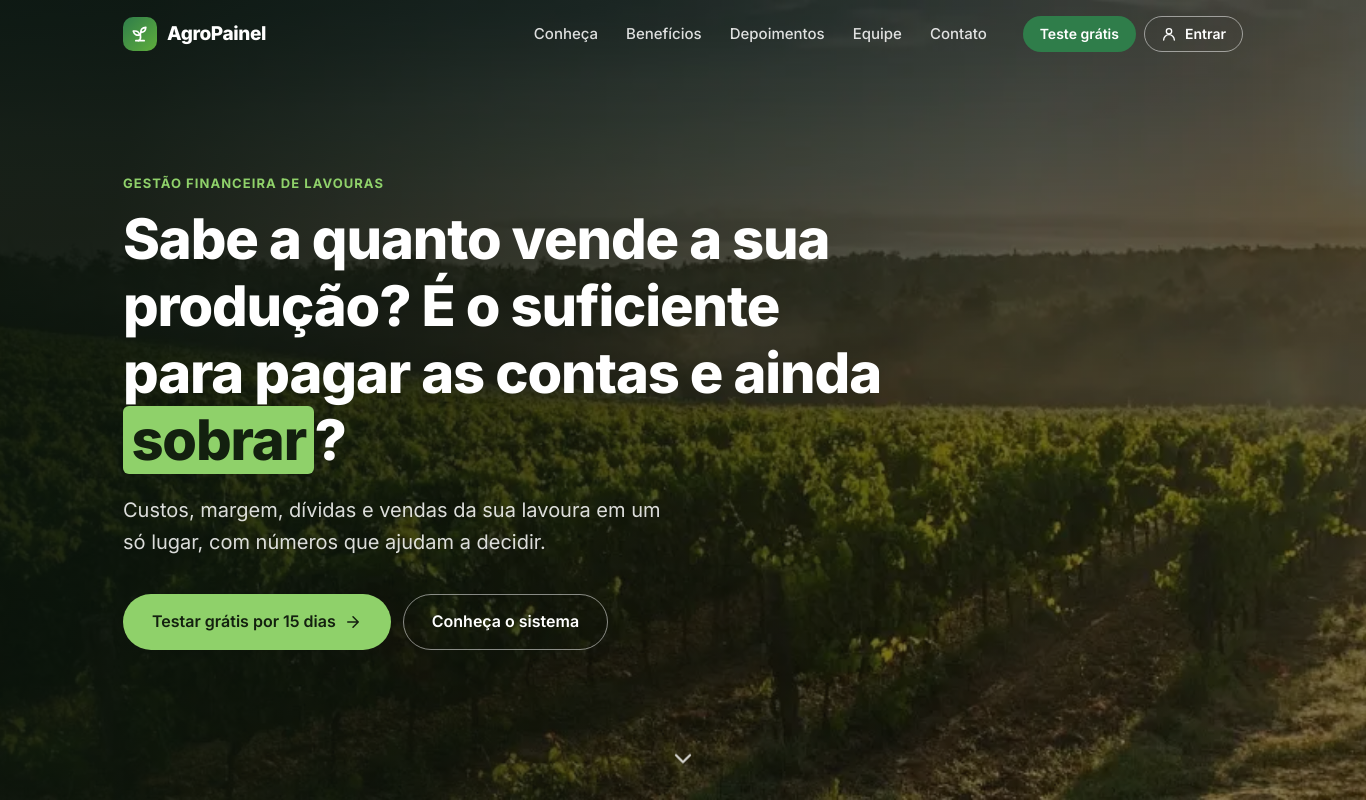
Test: Cadastro para teste grátis › valida os campos e aplica a máscara de CPF
This screenshot has width=1366, height=800.
Click the button "Teste grátis" at (1080, 34), box top-left (1023, 16), bottom-right (1136, 52)
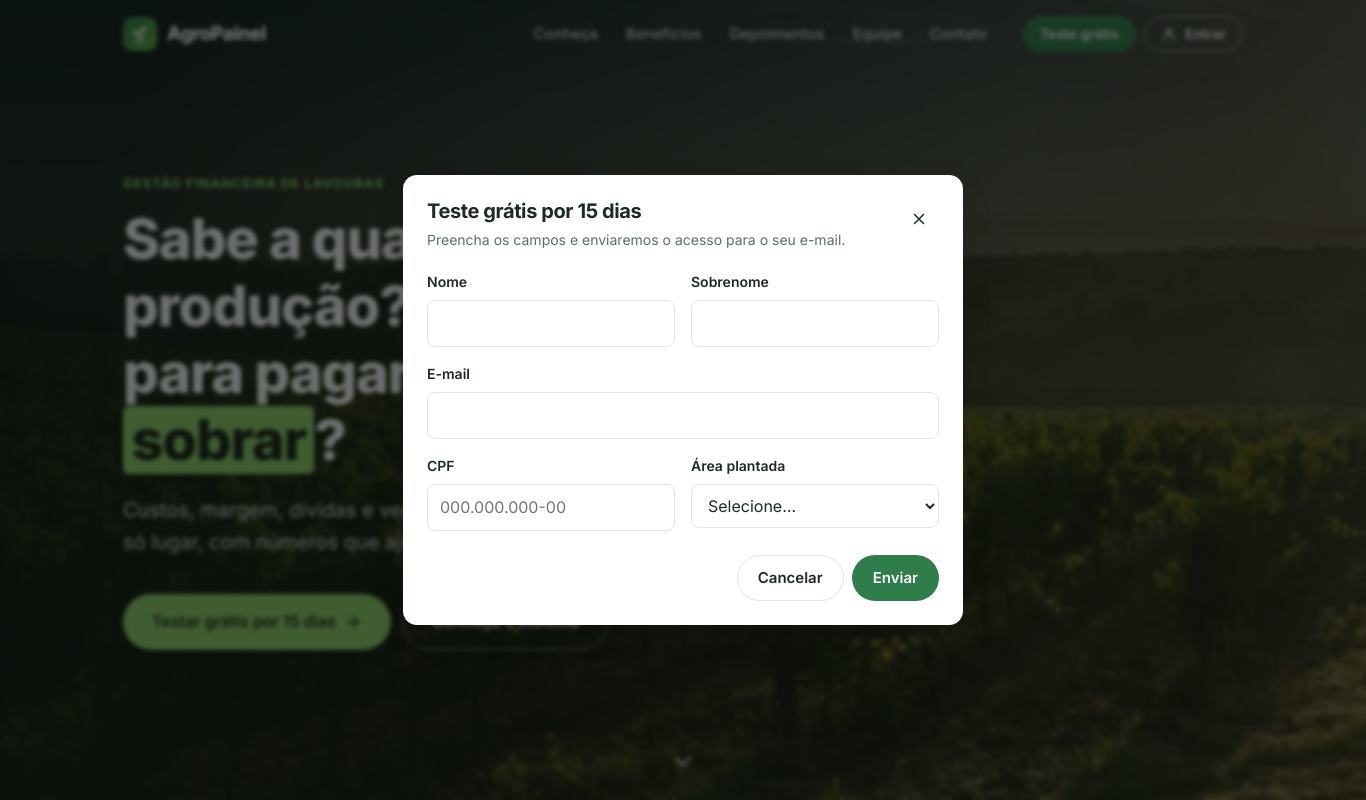
Click the button "Enviar" at (896, 578), box top-left (852, 555), bottom-right (939, 601)
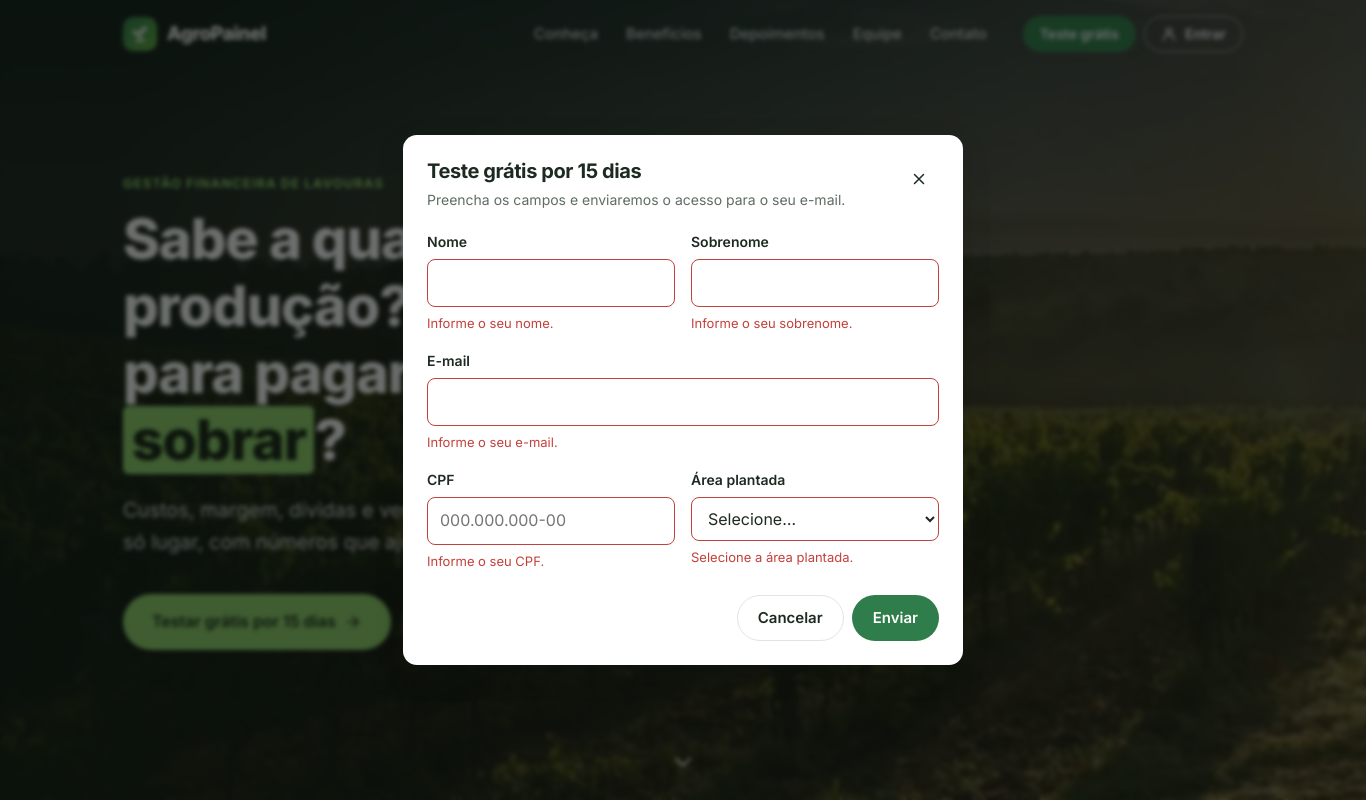
Expected: the number of elements with class "field__error" is 5, top-left (427, 315), bottom-right (554, 331); top-left (691, 315), bottom-right (852, 331); top-left (427, 434), bottom-right (558, 450); top-left (427, 553), bottom-right (544, 569); top-left (691, 549), bottom-right (853, 565)
Type "52998224724" into the field labelled "CPF Informe o seu CPF." at (551, 521), box top-left (427, 497), bottom-right (675, 545)
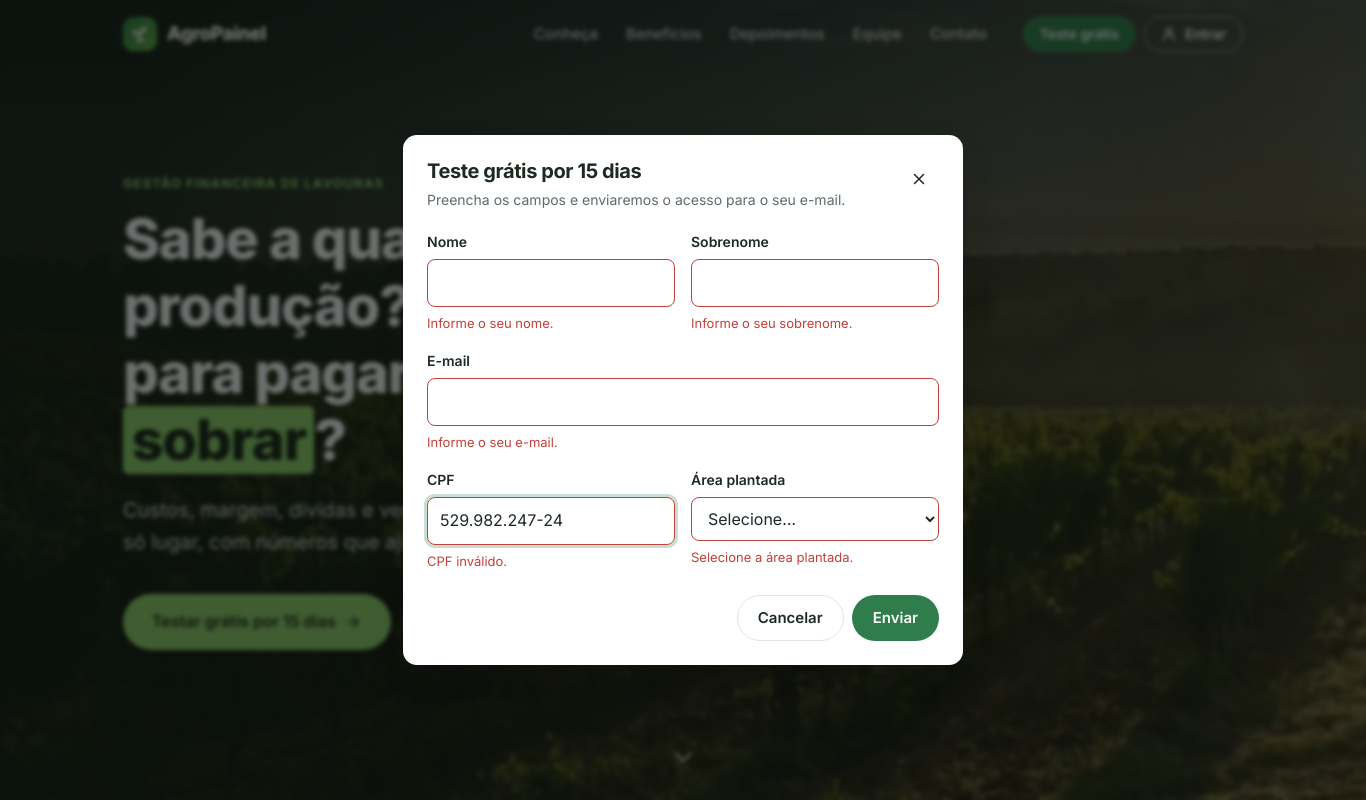
Expected: the field labelled "CPF CPF inválido." holds "529.982.247-24", top-left (427, 497), bottom-right (675, 545)
Expected: the text "CPF inválido." is shown, top-left (427, 553), bottom-right (507, 569)
Type "ana@" into the field labelled "E-mail Informe o seu e-mail." at (683, 402), box top-left (427, 378), bottom-right (939, 426)
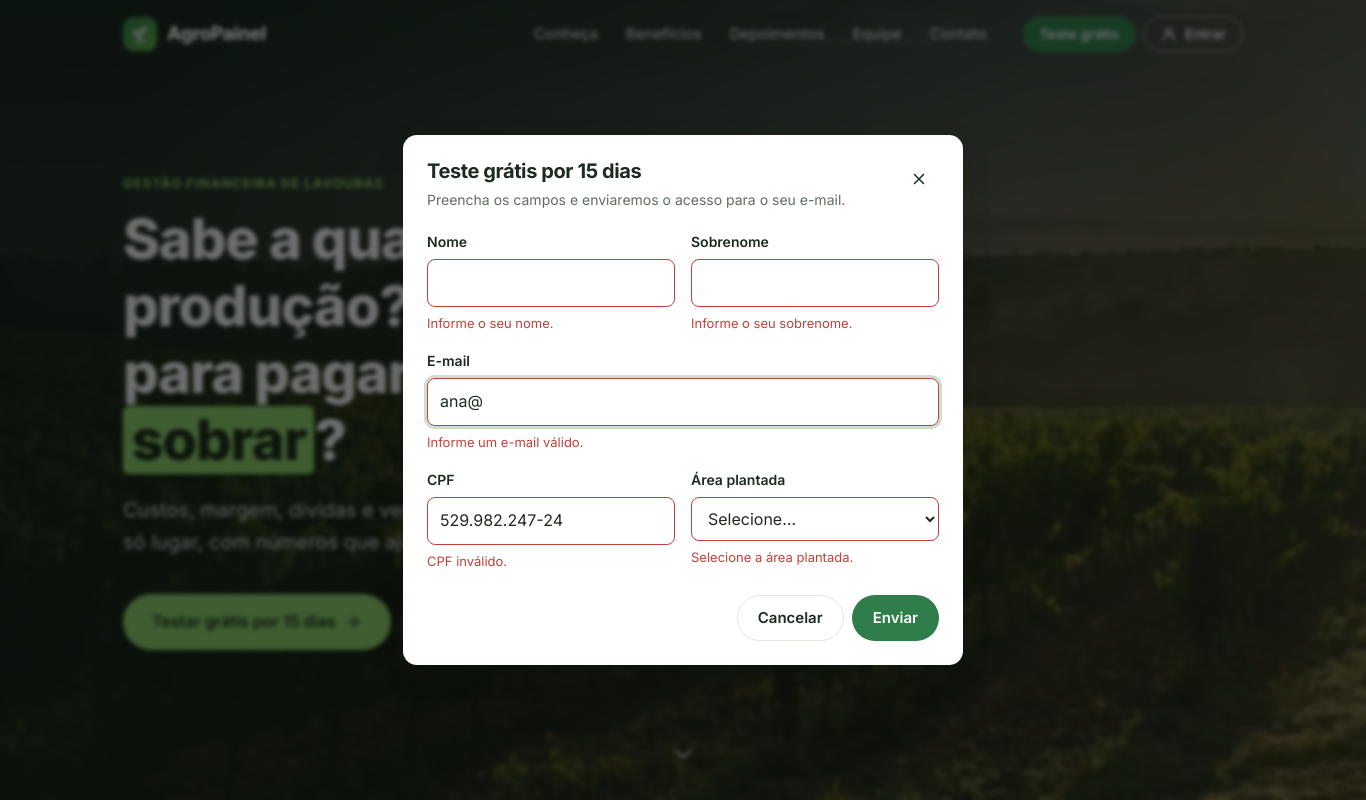
Expected: the text "Informe um e-mail válido." is shown, top-left (427, 434), bottom-right (583, 450)
